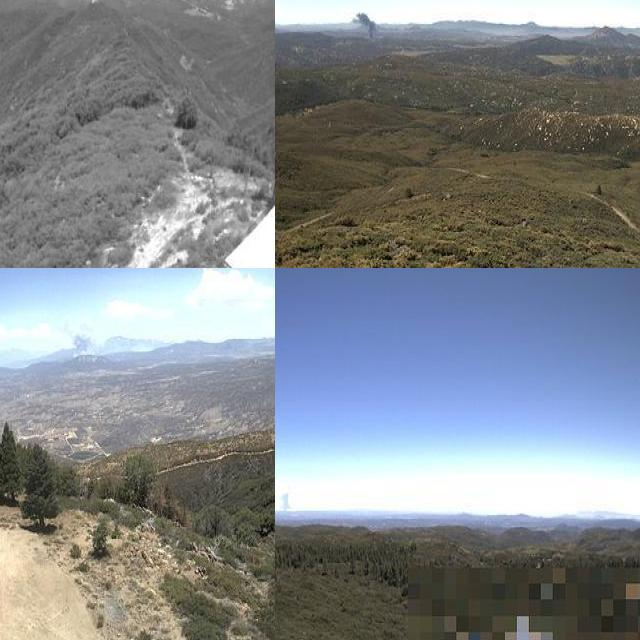smoke: (61, 323, 104, 358), (349, 7, 378, 45), (275, 488, 295, 518)
